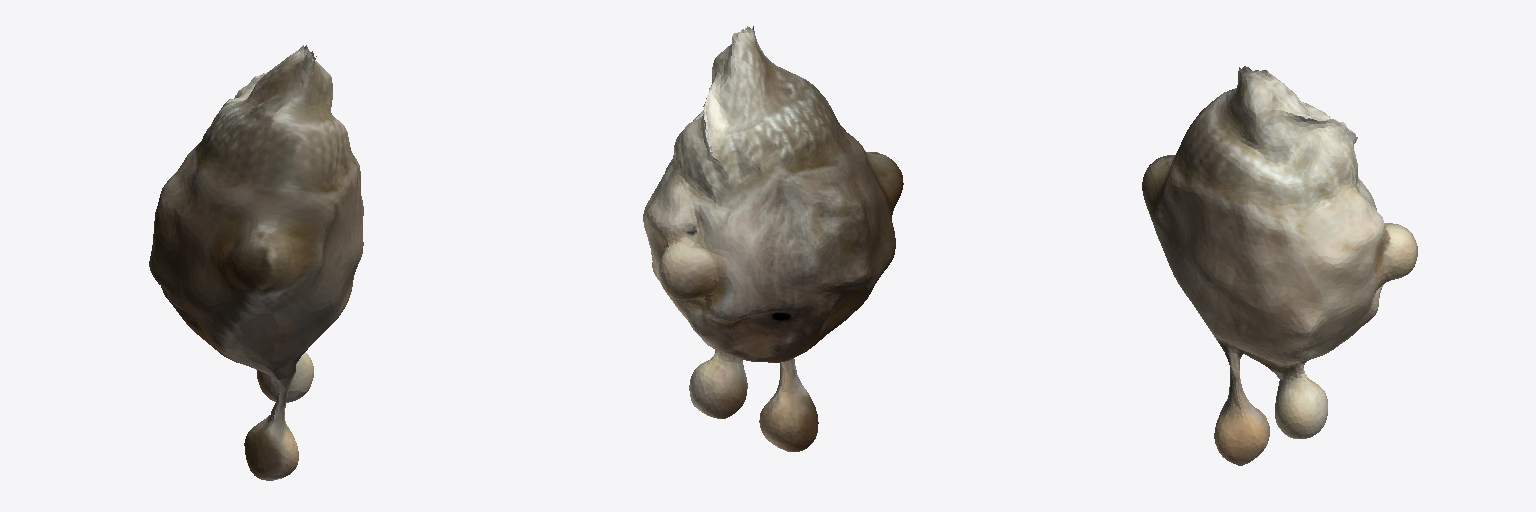
3 views of the same model, side by side, from view 1: azimuth 30°, elevation 25°; view 2: azimuth 150°, elevation 25°; view 3: azimuth 270°, elevation 25° (orthographic).
Size of the model in its own units: 0.2911 by 0.5659 by 0.3414.
1 materials, 1 textured.